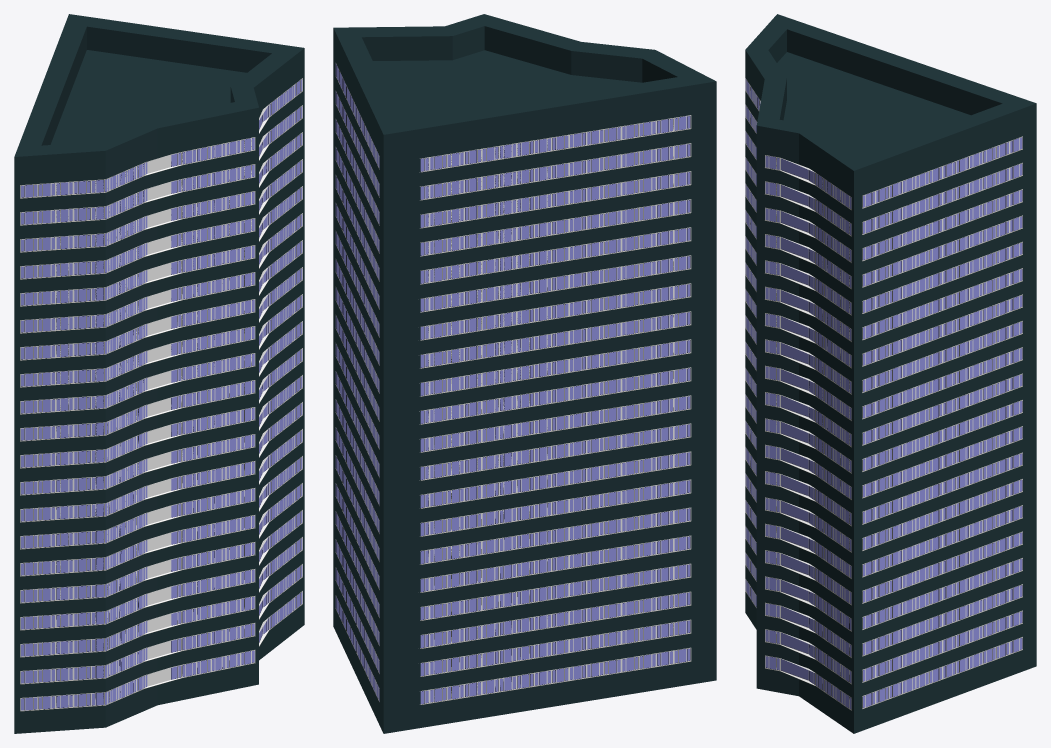
Rendered from BaxtonTower.fbx.
The picture shows the model from 3 angles, left to right: view 1: azimuth 30°, elevation 25°; view 2: azimuth 150°, elevation 25°; view 3: azimuth 270°, elevation 25°; orthographic projection. The views are drawn at different scales.
Visible parts, largest first — view 1: BaxtonTower; view 2: BaxtonTower; view 3: BaxtonTower.
Part boxes in pixels (x1=…): BaxtonTower: x1=14, y1=14, x2=304, y2=733; BaxtonTower: x1=333, y1=14, x2=716, y2=733; BaxtonTower: x1=745, y1=14, x2=1036, y2=733.
Size of the model in its own units: 5216 by 8721 by 4093.
